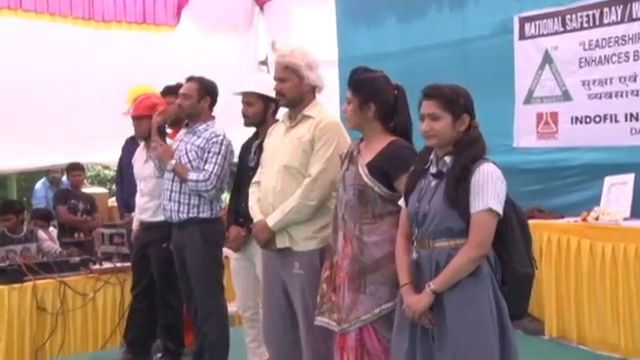helmet: (122, 89, 163, 118), (234, 75, 277, 98)
helmet_off: (413, 83, 479, 161), (340, 67, 403, 139), (263, 52, 328, 110), (164, 78, 219, 128), (0, 197, 26, 237), (62, 165, 87, 191), (42, 168, 64, 190)
helmet_on: (233, 71, 280, 129), (120, 92, 163, 153)
person: (388, 68, 534, 360), (246, 55, 349, 360), (321, 63, 417, 356), (139, 69, 230, 360), (117, 87, 183, 360), (225, 72, 277, 359), (0, 197, 85, 269), (52, 163, 99, 257), (30, 167, 65, 226)
